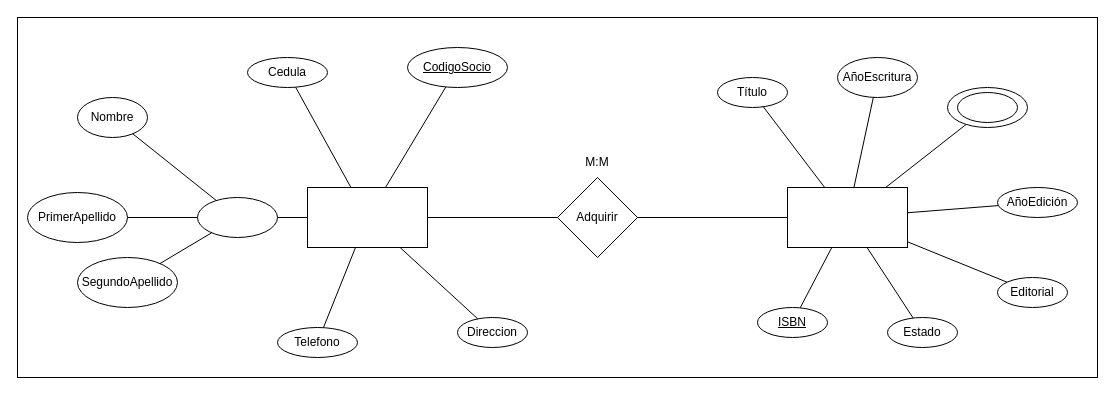
Image size: 1115x395. Some labels were removed from this diagram. The centre of each missing label's shape, as x and y in pixels:
Autor: [987,107]
LIBRO: [847,217]
NombreSocio: [237,217]
SOCIO: [367,217]
